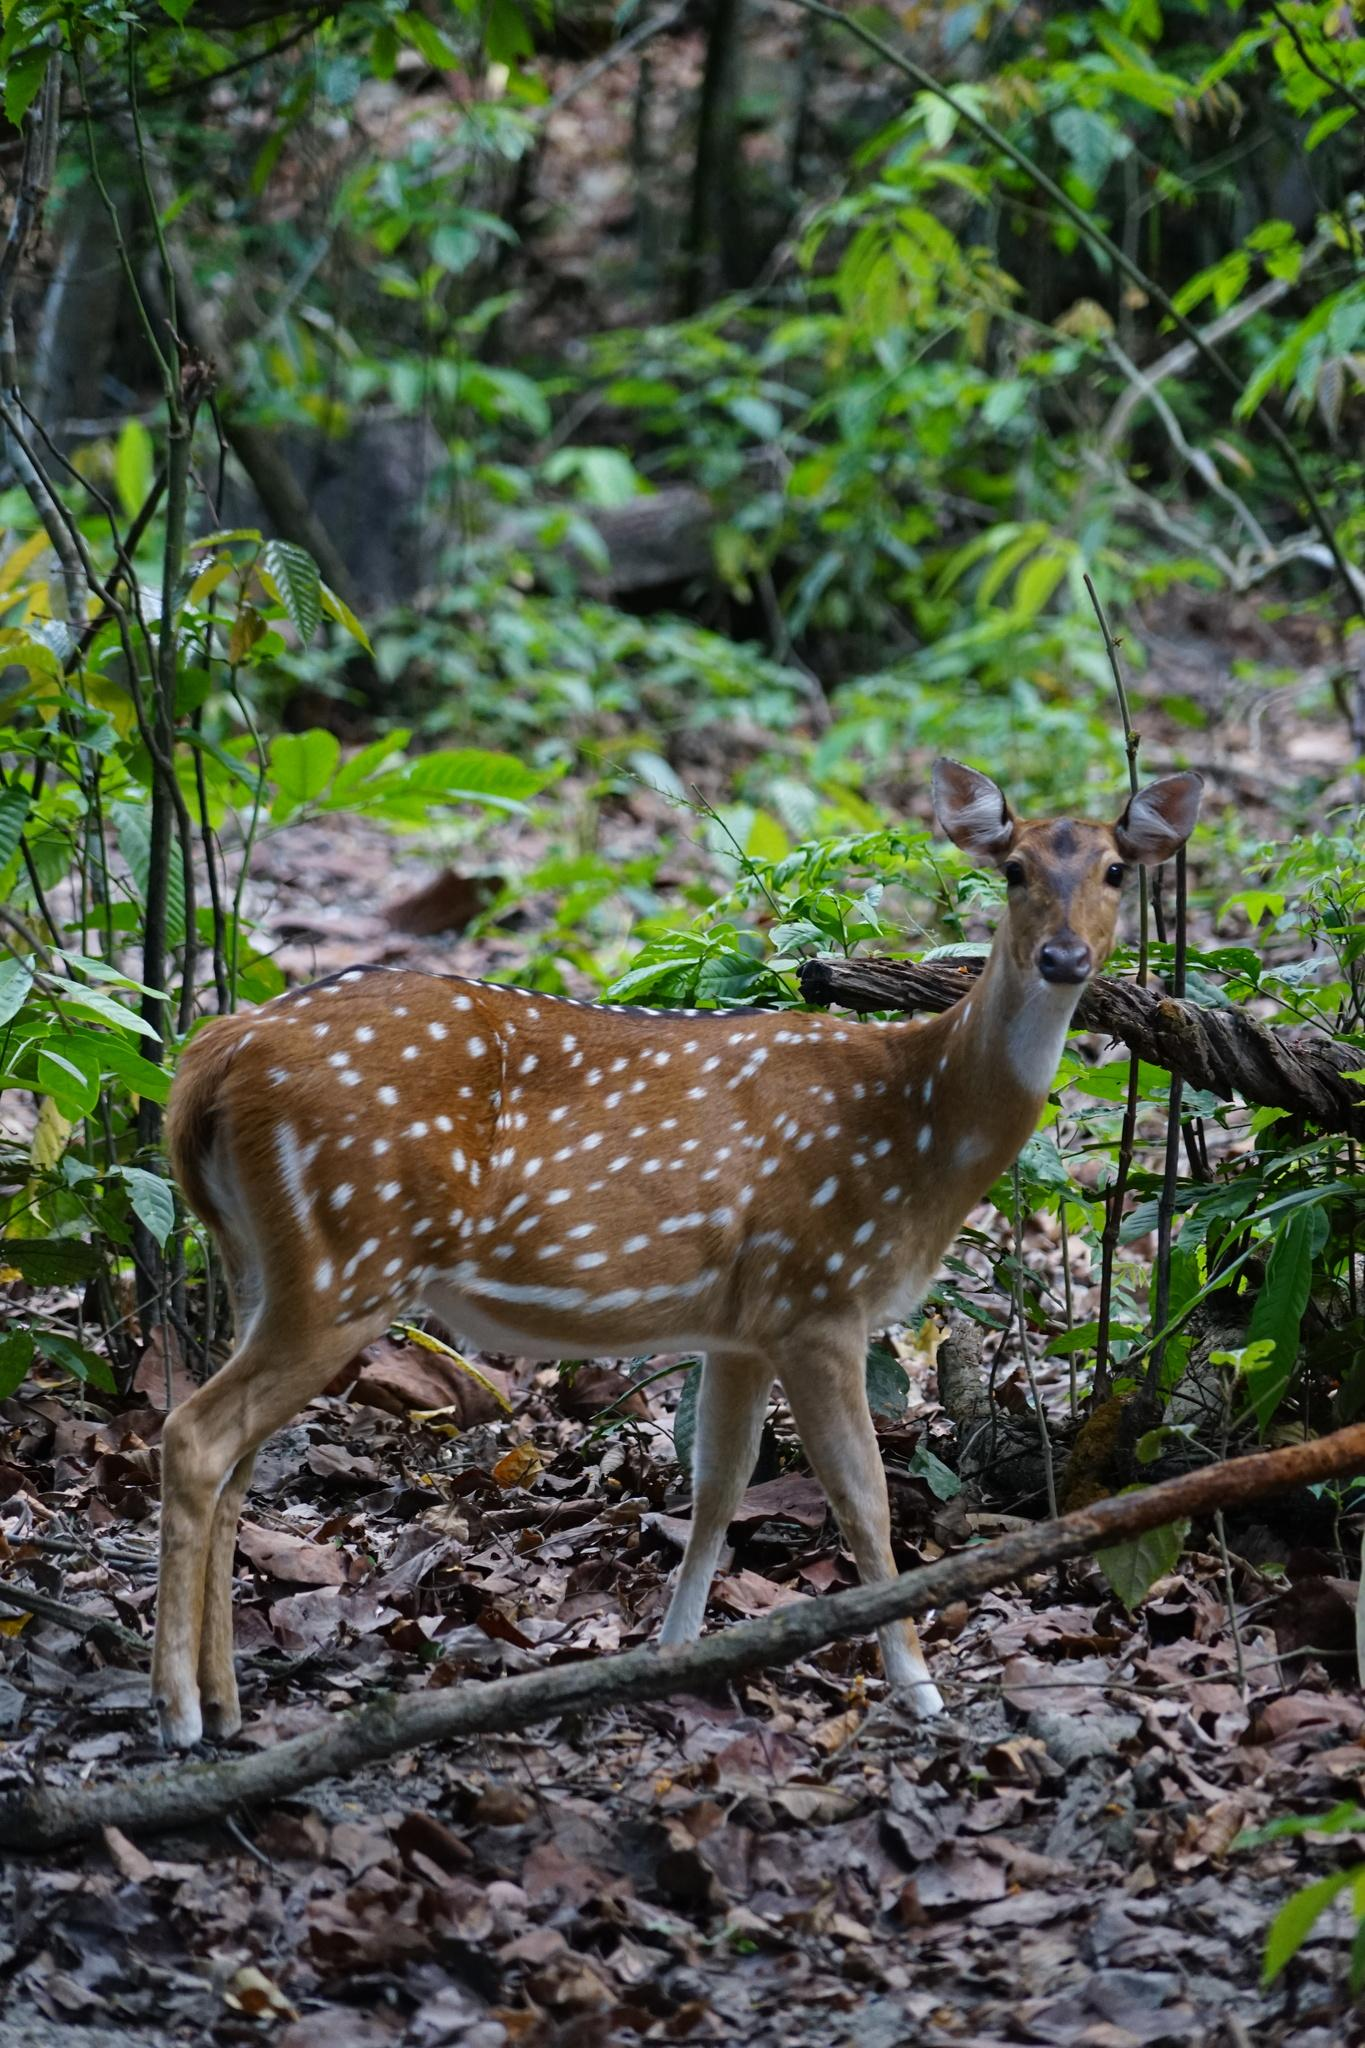Deer: (152, 758, 1197, 1745)
